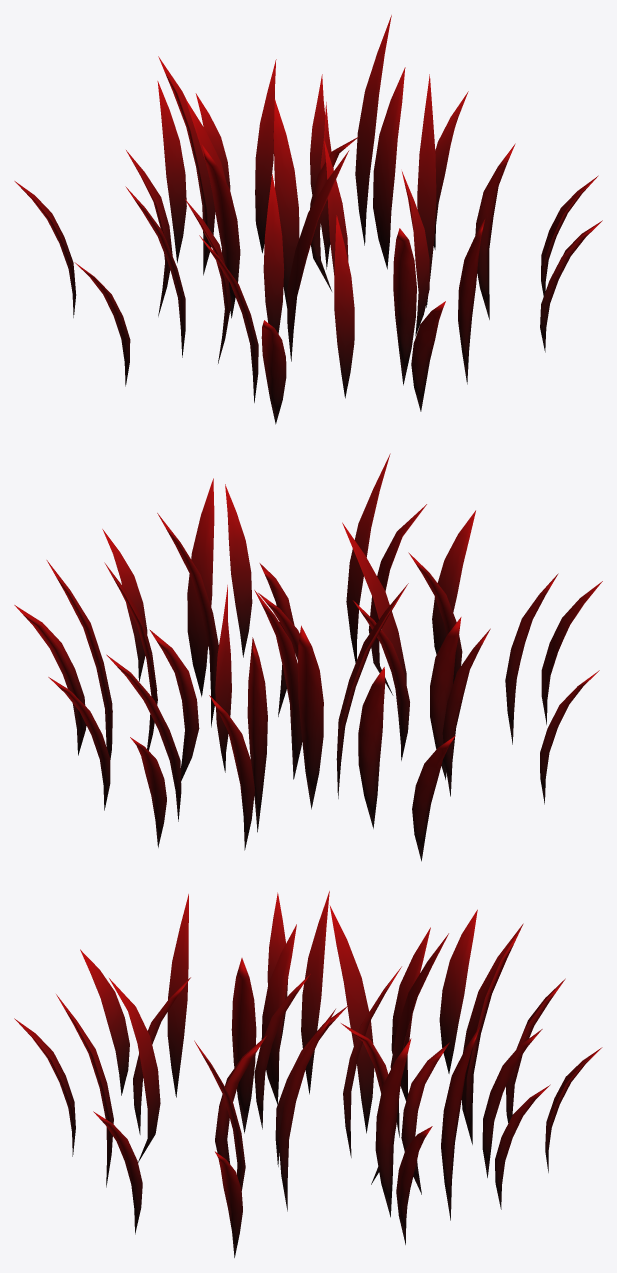
The model's file is Grass2.fbx.
The picture shows the model from 3 angles, top to bottom: view 1: azimuth 30°, elevation 25°; view 2: azimuth 150°, elevation 25°; view 3: azimuth 270°, elevation 25°; orthographic projection. The views are drawn at different scales.
Parts seen in each view (by area): view 1: Grass; view 2: Grass; view 3: Grass.
Boxes of the visible parts, left/top/right/bottom form: Grass: left=14, top=15, right=602, bottom=424; Grass: left=14, top=453, right=602, bottom=861; Grass: left=14, top=891, right=602, bottom=1257.
Bounding box in the file's own units: 337 × 138 × 339.
